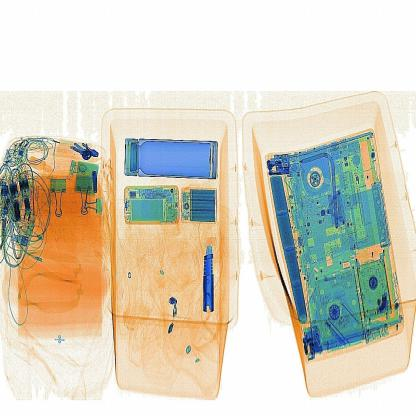pliers: (201, 237, 229, 316)
